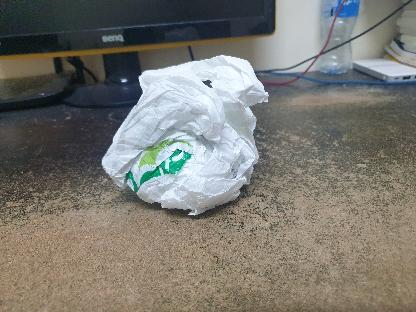Plastic Bag: (98, 51, 276, 227)
